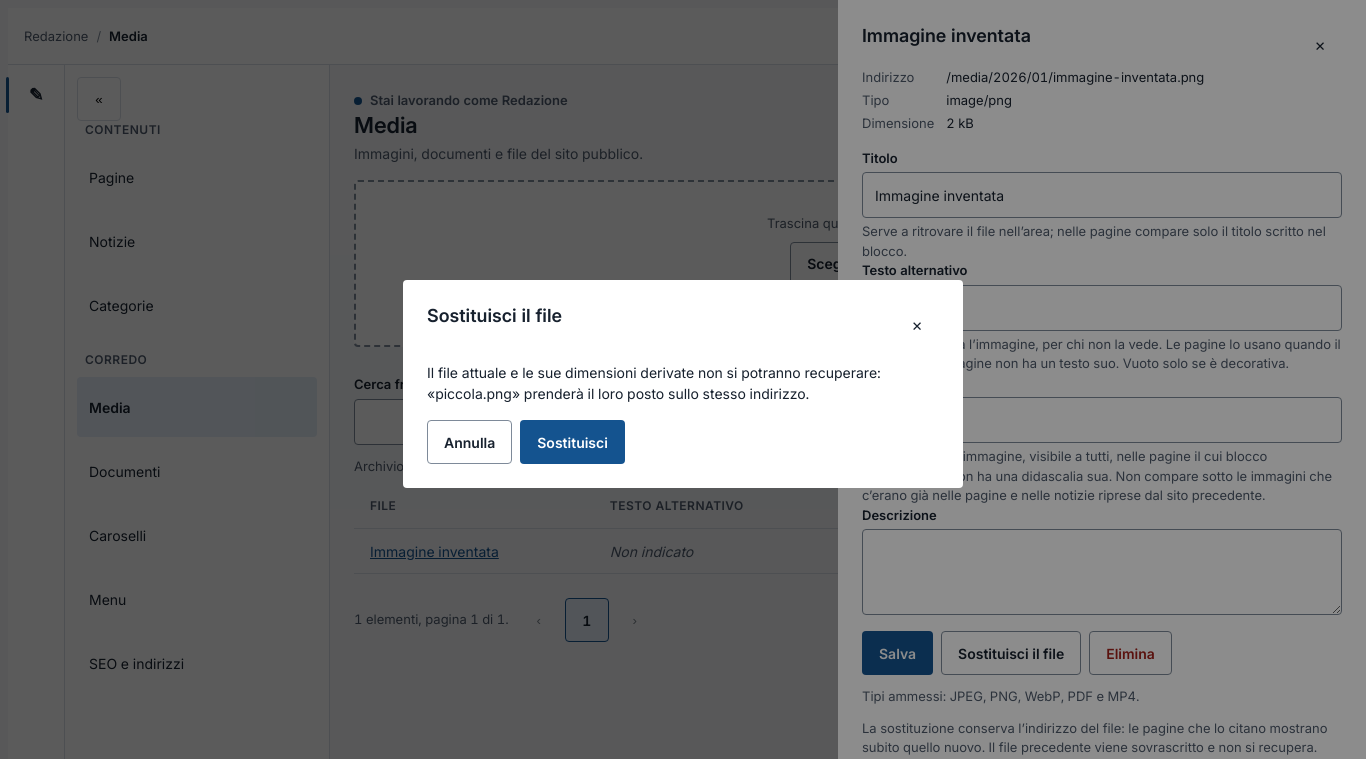
Test case: archivio dei media › il rifiuto che elenca i contenuti si legge per intero nel pannello (D146-A)
The image size is (1366, 759).
Earlier steps of the test are not shown.
Click the button "Sostituisci" at point(573, 442), box [520,420,625,464]
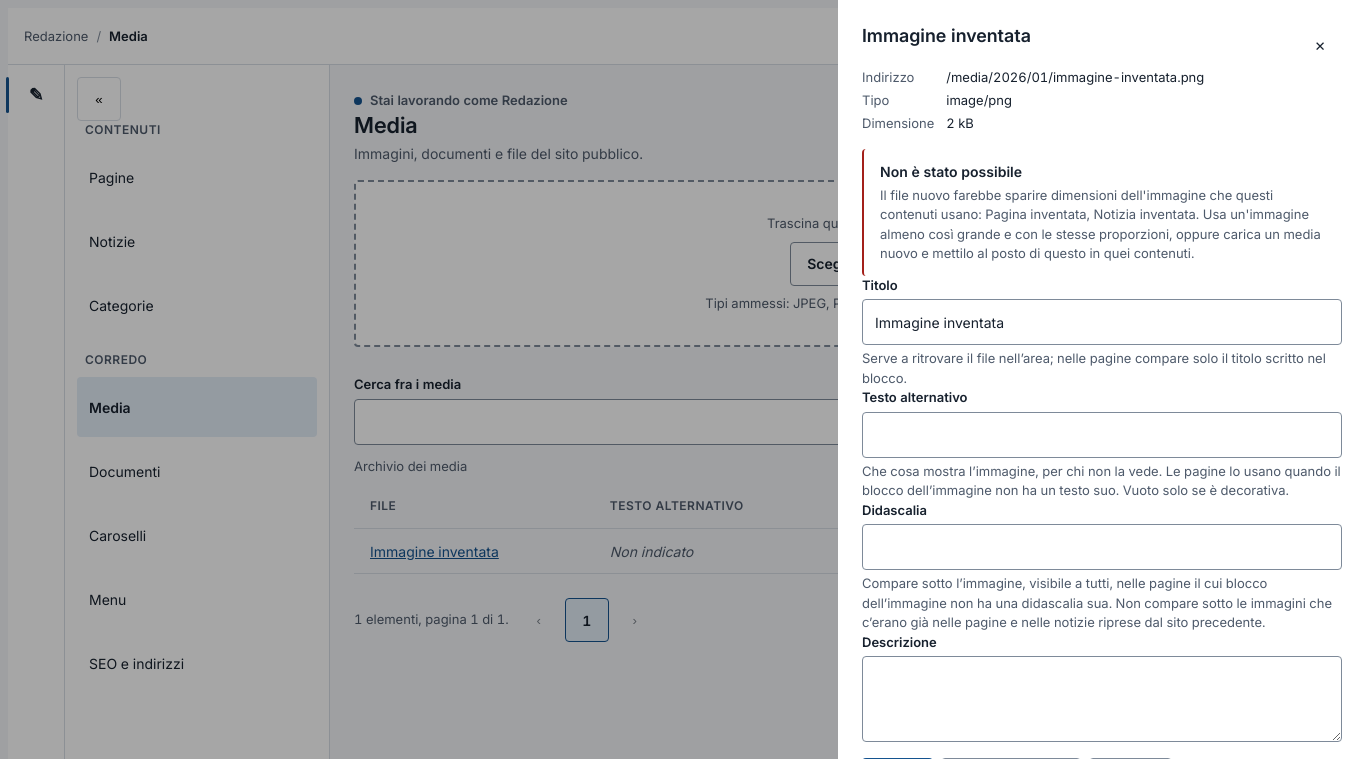
Result: the text "Pagina inventata, Notizia inventata" is shown at [880,186,1321,261]
